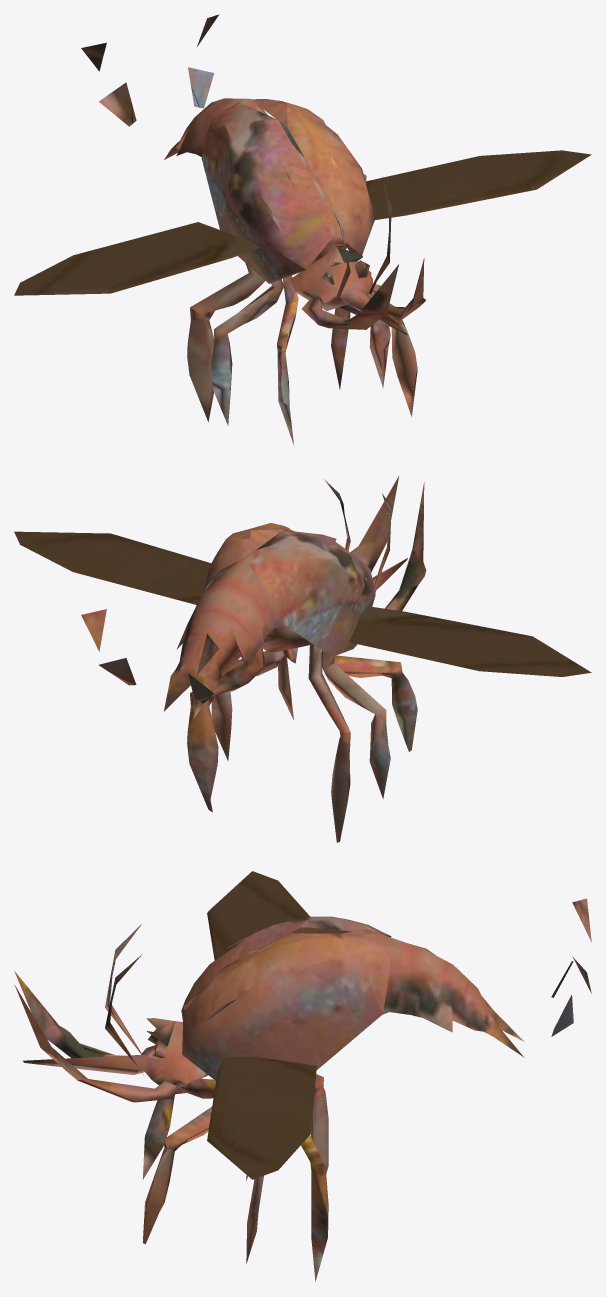
File: pillioshrimp.far.glb
3 views of the same model, one above another, from view 1: azimuth 30°, elevation 25°; view 2: azimuth 150°, elevation 25°; view 3: azimuth 270°, elevation 25° (orthographic). The views are drawn at different scales.
Bounding box in the file's own units: 3.65 × 1.79 × 2.88.
2 materials, 2 textured.
